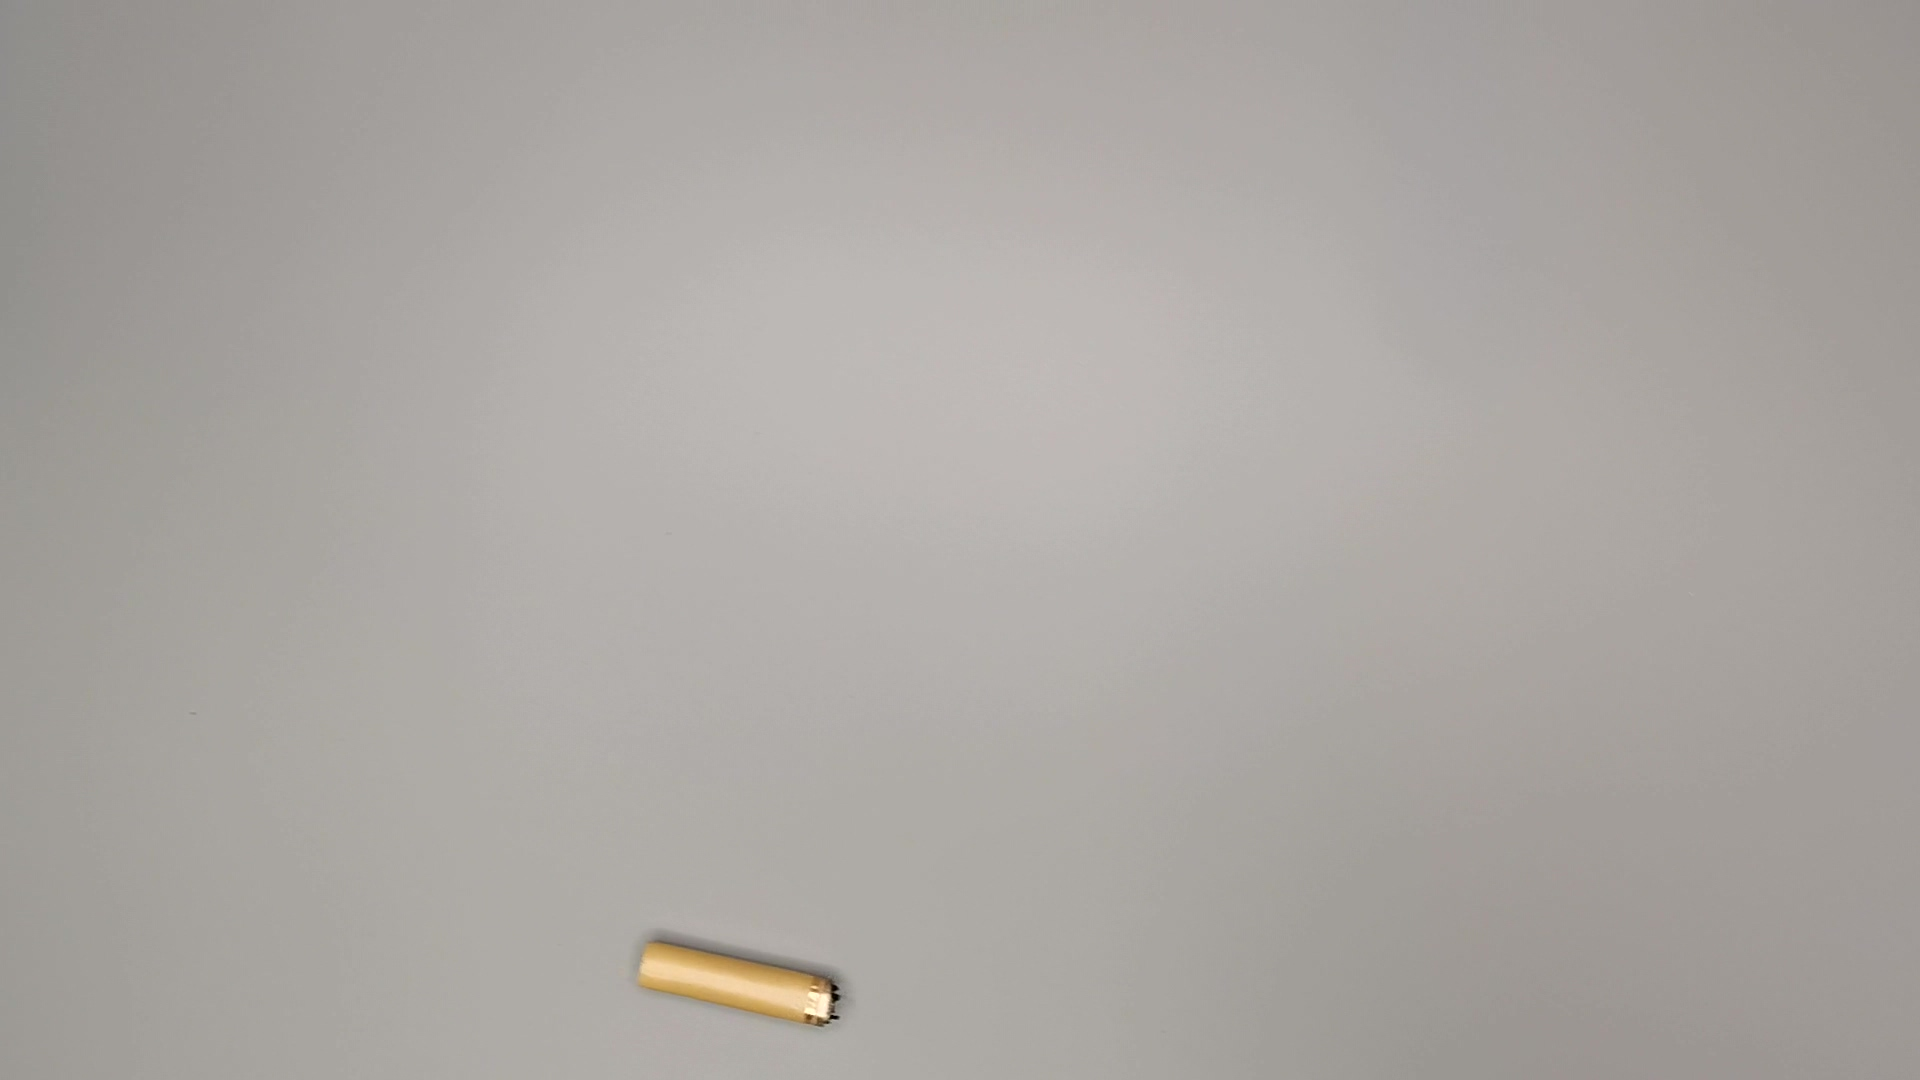cigarette: (628, 924, 860, 1038)
